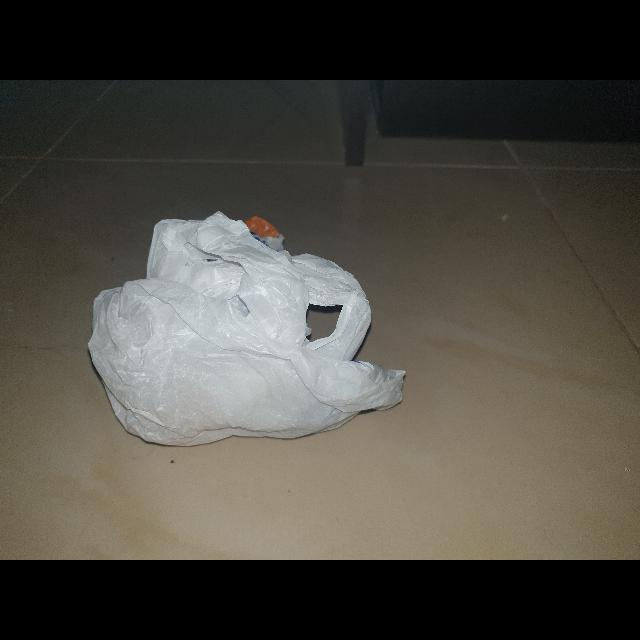plastic_bag: (88, 198, 404, 454)
